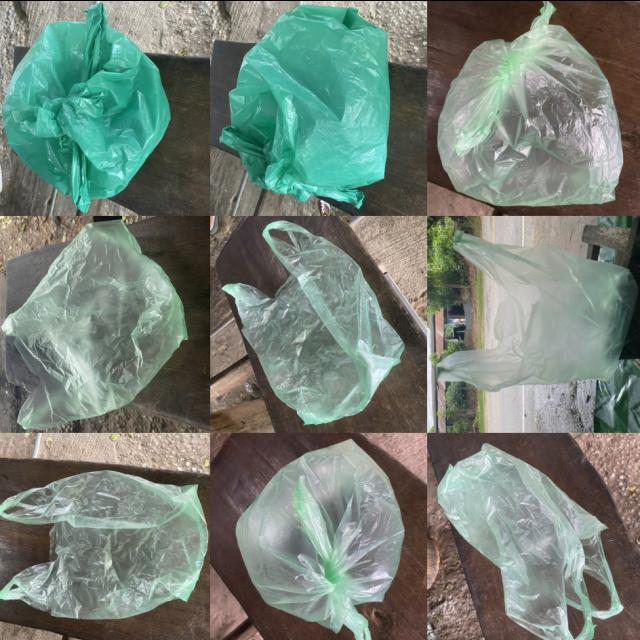plastik: (2, 219, 187, 428), (437, 1, 622, 205), (223, 219, 403, 424), (438, 443, 622, 640), (2, 3, 169, 210), (221, 4, 389, 206), (236, 439, 403, 640), (436, 229, 638, 391), (0, 470, 207, 618)
